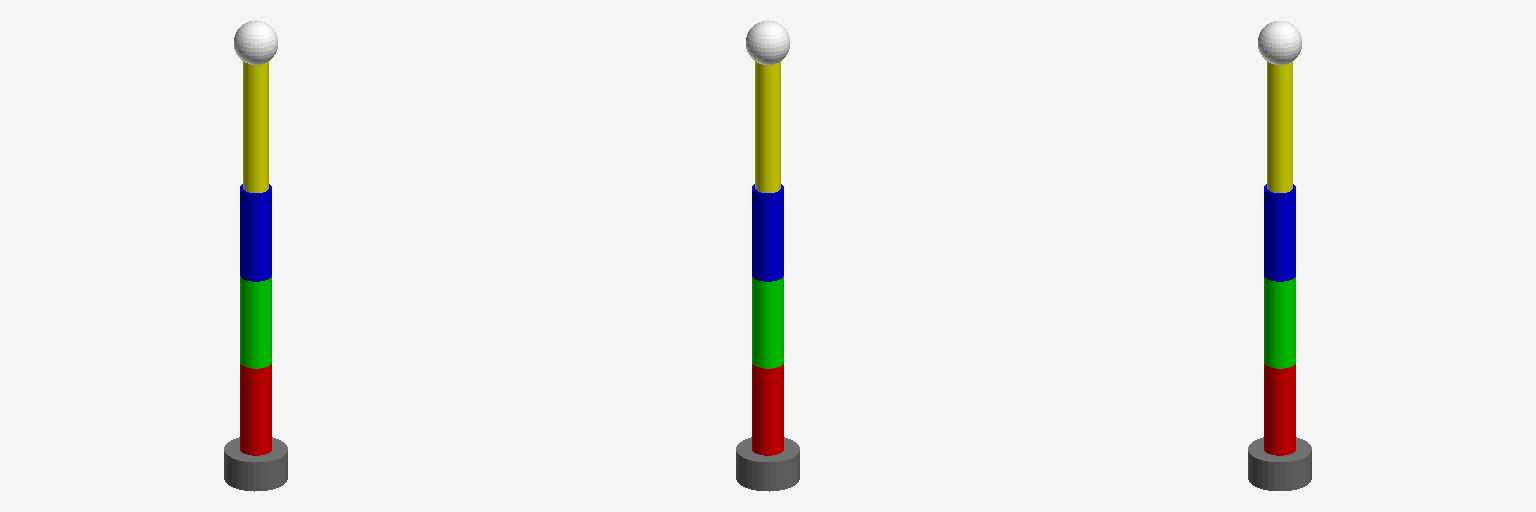
The robot description file, URDF, robot "gear_manipulator":
<?xml version="1.0"?>
<robot name="gear_manipulator">

  <!-- MATERIALS -->
  <material name="gray"><color rgba="0.5 0.5 0.5 1"/></material>
  <material name="red"><color rgba="1 0 0 1"/></material>
  <material name="green"><color rgba="0 1 0 1"/></material>
  <material name="blue"><color rgba="0 0 1 1"/></material>
  <material name="yellow"><color rgba="1 1 0 1"/></material>
  <material name="white"><color rgba="1 1 1 1"/></material>

  <!-- BASE -->
  <link name="base_link">
    <visual>
      <geometry><cylinder radius="0.1" length="0.1"/></geometry>
      <material name="gray"/>
    </visual>
  </link>

  <!-- LINK 1 -->
  <link name="link1">
    <visual>
      <origin xyz="0 0 0.15" rpy="0 0 0"/> <!-- cylinder vertical -->
      <geometry><cylinder length="0.3" radius="0.05"/></geometry>
      <material name="red"/>
    </visual>
  </link>

  <joint name="joint1" type="revolute">
    <parent link="base_link"/>
    <child link="link1"/>
    <origin xyz="0 0 0.05"/>
    <axis xyz="0 0 1"/> <!-- base rotates around Z -->
    <limit lower="0" upper="1.57" effort="10" velocity="1"/>
  </joint>

  <!-- LINK 2 -->
  <link name="link2">
    <visual>
      <origin xyz="0 0 0.15" rpy="0 0 0"/>
      <geometry><cylinder length="0.3" radius="0.05"/></geometry>
      <material name="green"/>
    </visual>
  </link>

  <joint name="joint2" type="revolute">
    <parent link="link1"/>
    <child link="link2"/>
    <origin xyz="0 0 0.3"/>   <!-- attached at top of link1 -->
    <axis xyz="1 0 0"/>      <!-- rotate around X to bend "other way" -->
    <limit lower="0.0" upper="2.0" effort="10" velocity="1"/>
  </joint>

  <!-- LINK 3 -->
  <link name="link3">
    <visual>
      <origin xyz="0 0 0.15" rpy="0 0 0"/>
      <geometry><cylinder length="0.3" radius="0.05"/></geometry>
      <material name="blue"/>
    </visual>
  </link>

  <joint name="joint3" type="revolute">
    <parent link="link2"/>
    <child link="link3"/>
    <origin xyz="0 0 0.3"/>   <!-- attached at top of link2 -->
    <axis xyz="1 0 0"/>      <!-- rotate around X → opposite bend -->
    <limit lower="-2.0" upper="2.0" effort="10" velocity="1"/>
  </joint>

  <!-- LINK 4 -->
  <link name="link4">
    <visual>
      <origin xyz="0 0 0.125" rpy="0 0 0"/>
      <geometry><cylinder length="0.25" radius="0.04"/></geometry>
      <material name="yellow"/>
    </visual>
  </link>

  <joint name="joint4" type="revolute">
    <parent link="link3"/>
    <child link="link4"/>
    <origin xyz="0 0 0.3"/>  <!-- top of link3 -->
    <axis xyz="0 0 1"/>      <!-- wrist twist now vertical -->
    <limit lower="-3.14" upper="3.14" effort="10" velocity="1"/>
  </joint>

  <!-- LINK 5 (wrist cylinder) -->
  <link name="link5">
    <visual>
      <origin xyz="0 0 0.125" rpy="0 0 0"/>
      <geometry><cylinder length="0.25" radius="0.04"/></geometry>
      <material name="yellow"/>
    </visual>
  </link>

  <!-- JOINT 5 (like joints 2 & 3) -->
  <joint name="joint5" type="revolute">
    <parent link="link4"/>
    <child link="link5"/>
    <origin xyz="0 0 0.25"/>  <!-- attached at top of link4 -->
    <axis xyz="1 0 0"/>       <!-- rotate like joints 2 & 3 -->
    <limit lower="-3.14" upper="3.14" effort="10" velocity="1"/>
  </joint>

  <!-- END EFFECTOR (ball) -->
  <link name="end_effector">
    <visual>
      <origin xyz="0 0 0.125"/>
      <geometry><sphere radius="0.07"/></geometry>
      <material name="white"/>
    </visual>
  </link>

  <!-- Fixed joint connecting cylinder to ball -->
  <joint name="ee_fixed" type="fixed">
    <parent link="link5"/>
    <child link="end_effector"/>
    <origin xyz="0 0 0.125"/>
  </joint>

</robot>

--- Render facts (derived) ---
3 views of the same robot in one strip: view 1: azimuth 30°, elevation 25°; view 2: azimuth 150°, elevation 25°; view 3: azimuth 270°, elevation 25° (orthographic).
Robot: gear_manipulator — 7 links, 6 joints (5 revolute, 1 fixed); root link base_link; default pose: every joint at zero.
Visible links, largest first — view 1: link3, link2, link1, base_link, link4, end_effector, link5; view 2: link3, link2, link1, base_link, link4, end_effector, link5; view 3: link3, link1, link2, base_link, link4, end_effector, link5.
Link boxes in pixels (x1,y1,x2,y2): link3: (240,184,271,281); link2: (240,276,271,368); link1: (240,364,271,455); base_link: (224,437,287,491); link4: (243,116,268,192); end_effector: (234,20,277,64); link5: (243,61,268,120); link3: (752,184,783,281); link2: (752,276,783,368); link1: (752,364,783,455); base_link: (736,437,799,491); link4: (755,116,780,192); end_effector: (746,20,789,64); link5: (755,61,780,120); link3: (1264,184,1295,281); link1: (1264,364,1295,455); link2: (1264,277,1295,368); base_link: (1248,437,1311,490); link4: (1267,117,1292,192); end_effector: (1258,21,1301,64); link5: (1267,61,1292,120).
Size in the robot's own frame: 0.2 by 0.2 by 1.57 metres.
Geometry: primitives only (box / cylinder / sphere), no mesh files.
